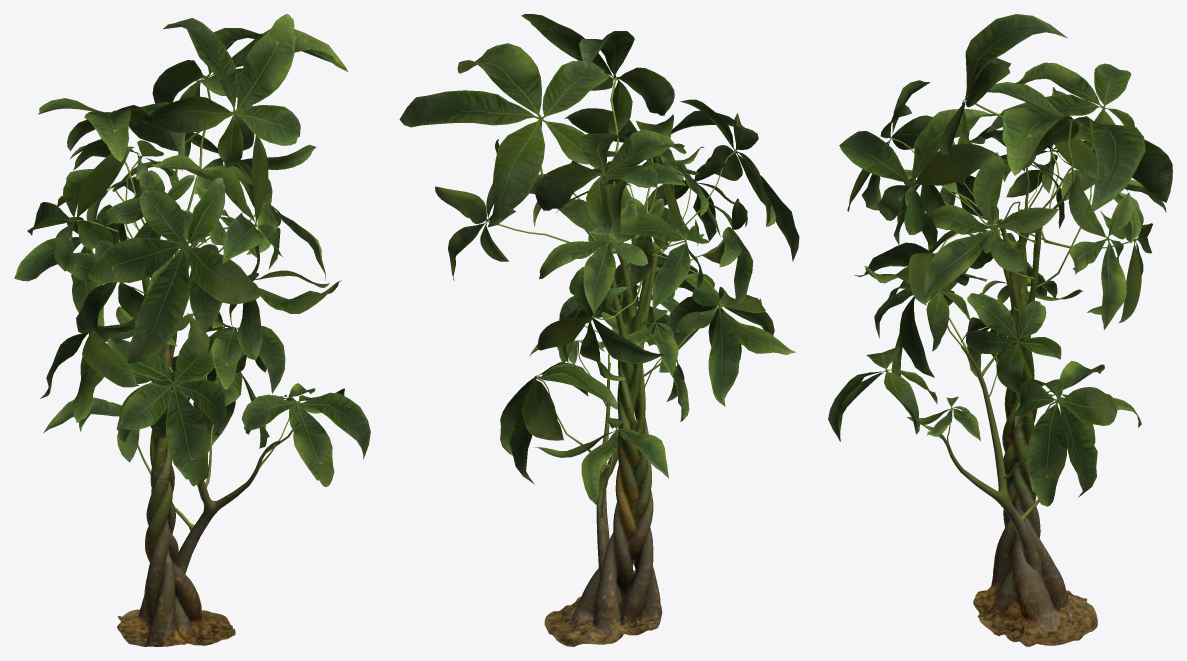
File: pachira.glb
3 renders of one model, left to right at view 1: azimuth 30°, elevation 25°; view 2: azimuth 150°, elevation 25°; view 3: azimuth 270°, elevation 25°, orthographic. The views are drawn at different scales.
Visible parts, largest first — view 1: pachira_aquatica_01_leaves_a, pachira_aquatica_01_leaves_b, pachira_aquatica_01_bark_a, pachira_aquatica_01_bark_b; view 2: pachira_aquatica_01_leaves_a, pachira_aquatica_01_bark_a, pachira_aquatica_01_leaves_b, pachira_aquatica_01_bark_b; view 3: pachira_aquatica_01_leaves_a, pachira_aquatica_01_leaves_b, pachira_aquatica_01_bark_a, pachira_aquatica_01_bark_b.
Part boxes in pixels (left/top/right/bottom): pachira_aquatica_01_leaves_a: left=14, top=14, right=347, bottom=422; pachira_aquatica_01_leaves_b: left=43, top=306, right=370, bottom=530; pachira_aquatica_01_bark_a: left=117, top=239, right=235, bottom=646; pachira_aquatica_01_bark_b: left=177, top=408, right=281, bottom=573; pachira_aquatica_01_leaves_a: left=399, top=14, right=799, bottom=406; pachira_aquatica_01_bark_a: left=544, top=235, right=662, bottom=646; pachira_aquatica_01_leaves_b: left=500, top=252, right=774, bottom=517; pachira_aquatica_01_bark_b: left=596, top=362, right=620, bottom=602; pachira_aquatica_01_leaves_a: left=839, top=14, right=1172, bottom=329; pachira_aquatica_01_leaves_b: left=828, top=267, right=1141, bottom=521; pachira_aquatica_01_bark_a: left=973, top=209, right=1097, bottom=646; pachira_aquatica_01_bark_b: left=926, top=345, right=1041, bottom=574.
Bounding box in the file's own units: 0.7439 × 1.3 × 0.6678.
2 materials, 2 textured.
